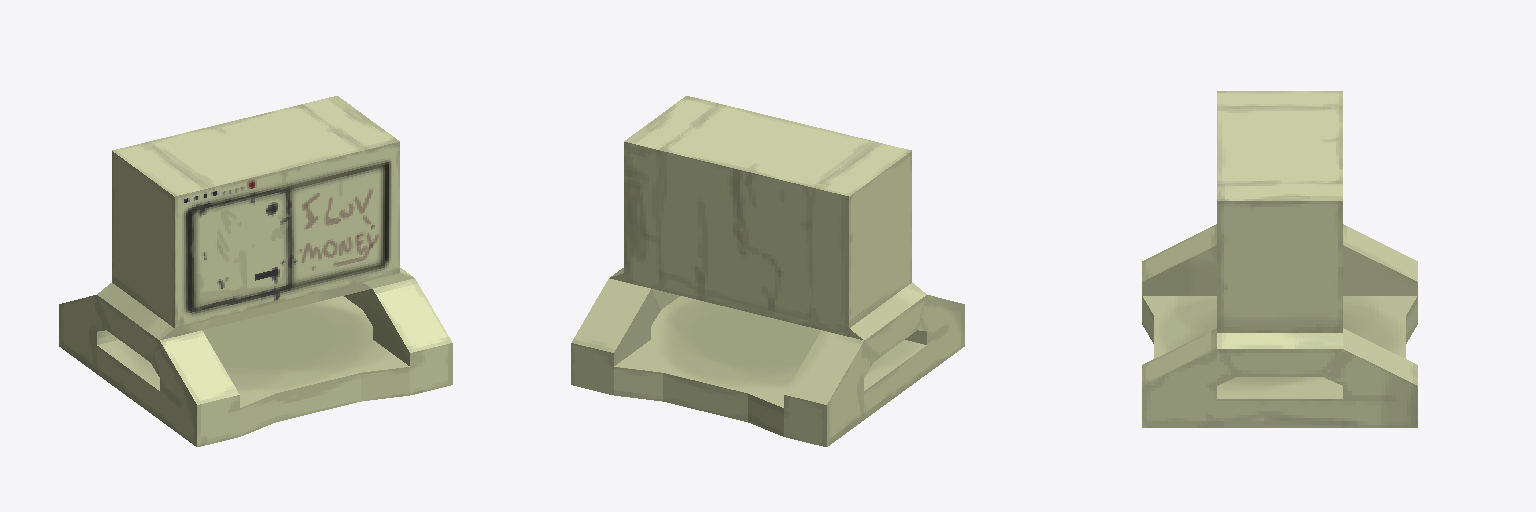
The picture shows the model from 3 angles: view 1: azimuth 30°, elevation 25°; view 2: azimuth 150°, elevation 25°; view 3: azimuth 270°, elevation 25°; orthographic projection.
Visible parts, largest first — view 1: Cube.004; view 2: Cube.004; view 3: Cube.004.
Boxes of the visible parts, x1=… form: Cube.004: x1=59, y1=96, x2=452, y2=446; Cube.004: x1=571, y1=96, x2=964, y2=446; Cube.004: x1=1142, y1=91, x2=1417, y2=427.
Size of the model in its own units: 0.3294 by 0.2708 by 0.3079.
Materials: 1 (1 with a texture image).